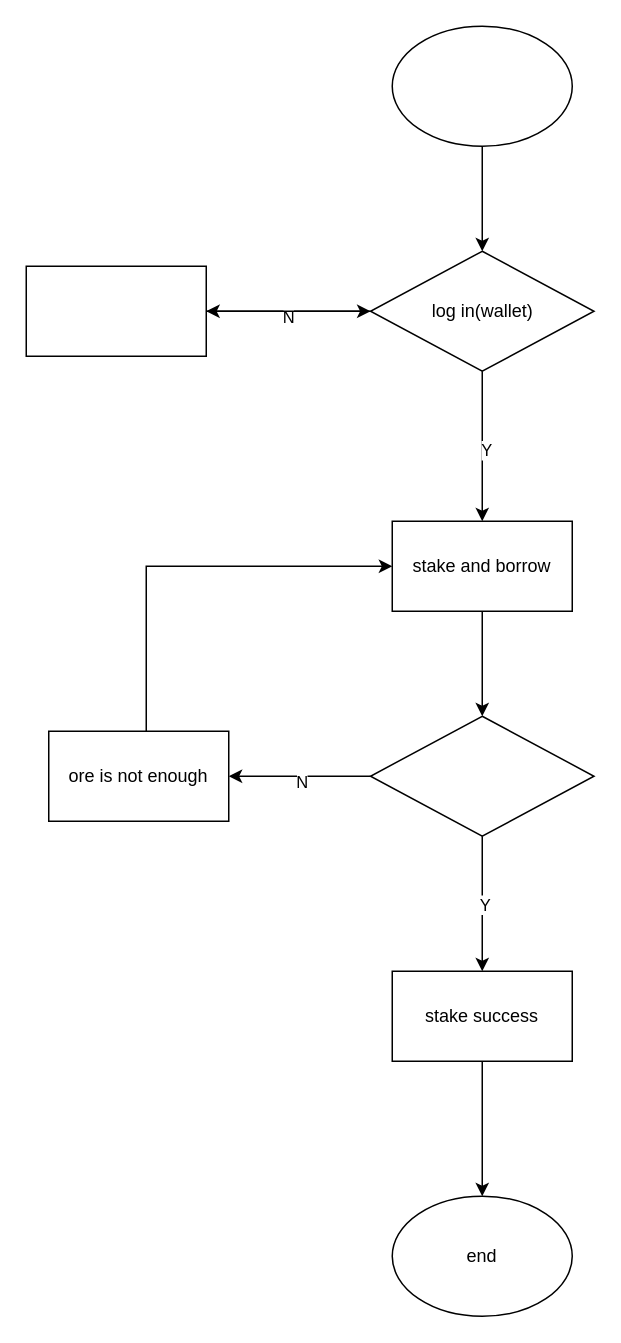
Image size: 621x1343. Some labels were removed from this diagram. The shapes that lost their labels are listed below. From the top down, each one's box as (x1, y1, x2, y2) in pixels, then its label:
(391, 25, 572, 146): start
(25, 265, 206, 356): create wallet and retry again
(369, 715, 594, 836): stake ore borrow usdc
